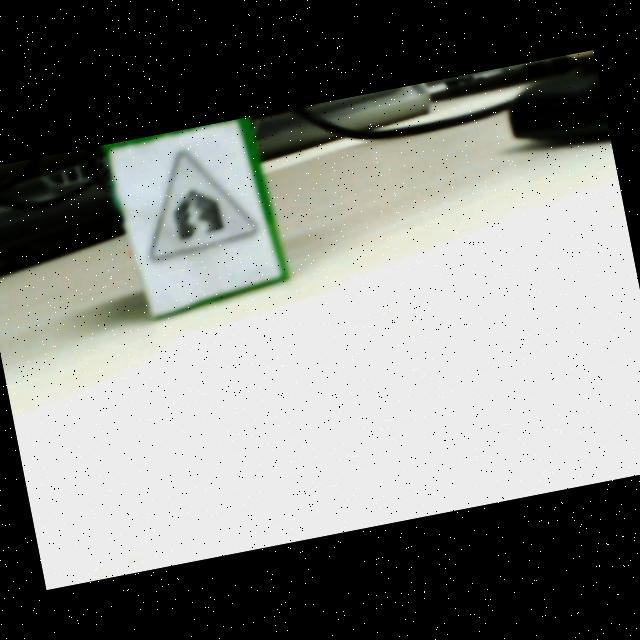Earthquake: (131, 142, 260, 264), (149, 151, 258, 261)
